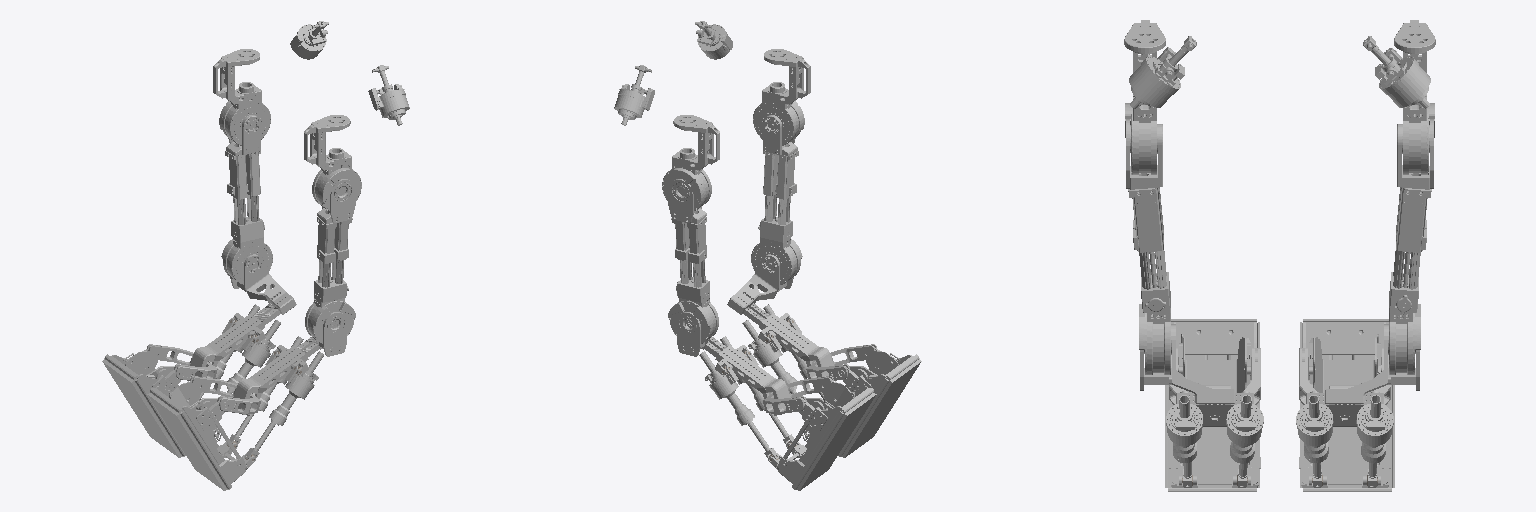
--- Render facts (derived) ---
The picture shows the robot from 3 angles, left to right: view 1: azimuth 30°, elevation 25°; view 2: azimuth 150°, elevation 25°; view 3: azimuth 270°, elevation 25°; orthographic projection.
Robot: humanoid_legged_description — 38 links, 37 joints (12 revolute, 25 fixed); root link dummy_link; default pose: joints at zero except 2 at the middle of their limits (leg_r4_joint = 1.05, leg_l4_joint = 1.05).
Visible links, largest first — view 1: LINK_R_FOOT, LINK_L_THIGH, LINK_R_THIGH, LINK_L_FOOT, LINK_L_SHANK, LINK_L_HIP, LINK_R_HIP, LINK_R_SHANK, LINK_RR_ACTU, LINK_LR_ACTU, LINK_R_ANK, LINK_R_ABD_ACTU (+2 smaller); view 2: LINK_L_FOOT, LINK_R_THIGH, LINK_L_THIGH, LINK_R_FOOT, LINK_R_SHANK, LINK_R_HIP, LINK_L_HIP, LINK_L_SHANK, LINK_LL_ACTU, LINK_RL_ACTU, LINK_L_ANK, LINK_L_ABD_ACTU (+2 smaller); view 3: LINK_L_FOOT, LINK_R_FOOT, LINK_R_THIGH, LINK_L_THIGH, LINK_R_HIP, LINK_L_HIP, LINK_L_SHANK, LINK_R_SHANK, LINK_L_ABD_ACTU, LINK_R_ABD_ACTU, LINK_RL_ACTU, LINK_LL_ACTU (+4 smaller).
Link boxes in pixels (bbox=[...]): LINK_R_FOOT: bbox=[147, 377, 255, 490]; LINK_L_THIGH: bbox=[221, 115, 272, 284]; LINK_R_THIGH: bbox=[305, 179, 355, 343]; LINK_L_FOOT: bbox=[102, 345, 185, 457]; LINK_L_SHANK: bbox=[190, 254, 296, 375]; LINK_L_HIP: bbox=[213, 49, 270, 145]; LINK_R_HIP: bbox=[304, 115, 361, 210]; LINK_R_SHANK: bbox=[233, 312, 347, 415]; LINK_RR_ACTU: bbox=[269, 351, 323, 425]; LINK_LR_ACTU: bbox=[226, 320, 280, 392]; LINK_R_ANK: bbox=[190, 376, 260, 414]; LINK_R_ABD_ACTU: bbox=[368, 84, 409, 119]; LINK_L_FOOT: bbox=[768, 377, 876, 490]; LINK_R_THIGH: bbox=[751, 115, 802, 284]; LINK_L_THIGH: bbox=[668, 179, 718, 343]; LINK_R_FOOT: bbox=[838, 345, 921, 457]; LINK_R_SHANK: bbox=[727, 254, 833, 375]; LINK_R_HIP: bbox=[753, 49, 810, 145]; LINK_L_HIP: bbox=[662, 115, 719, 210]; LINK_L_SHANK: bbox=[676, 312, 790, 415]; LINK_LL_ACTU: bbox=[699, 351, 754, 425]; LINK_RL_ACTU: bbox=[742, 320, 797, 392]; LINK_L_ANK: bbox=[763, 376, 833, 414]; LINK_L_ABD_ACTU: bbox=[614, 84, 654, 119]; LINK_L_FOOT: bbox=[1299, 319, 1394, 491]; LINK_R_FOOT: bbox=[1165, 319, 1260, 491]; LINK_R_THIGH: bbox=[1126, 119, 1170, 374]; LINK_L_THIGH: bbox=[1389, 119, 1433, 374]; LINK_R_HIP: bbox=[1124, 20, 1165, 174]; LINK_L_HIP: bbox=[1394, 20, 1435, 174]; LINK_L_SHANK: bbox=[1306, 324, 1419, 426]; LINK_R_SHANK: bbox=[1140, 324, 1253, 426]; LINK_L_ABD_ACTU: bbox=[1375, 48, 1430, 107]; LINK_R_ABD_ACTU: bbox=[1129, 47, 1184, 107]; LINK_RL_ACTU: bbox=[1226, 391, 1263, 463]; LINK_LL_ACTU: bbox=[1356, 391, 1393, 463].
Size in the robot's own frame: 0.7484 by 0.5998 by 1.21 metres.
30 mesh visuals loaded from 33 distinct referenced files (30 binary STL); not drawn: 3 (reference not matched to a file when rendering).

robot.urdf — humanoid_legged_description:
<?xml version="1.0" encoding="utf-8"?>
<!-- This URDF was automatically created by SolidWorks to URDF Exporter! Originally created by Stephen Brawner ([email redacted])  Commit Version: 1.6.0-4-g7f85cfe Build Version: 1.6.7995.38578 For more information, please see http://wiki.ros.org/sw_urdf_exporter -->
<robot name="humanoid_legged_description">
  <link name="dummy_link">
    </link>
  <link name="base_link">
    <inertial>
      <origin xyz="-0.1722 -0.00942 0.03461" rpy="0 0 0" />
      <mass value="5.55546" />
      <inertia ixx="0.02023" ixy="1e-05" ixz="0.00011" iyy="0.00815" iyz="0.00021" izz="0.02067" />
    </inertial>
    <visual>
      <origin xyz="0 0 0" rpy="0 0 0" />
      <geometry>
        <mesh filename="package://humanoid_legged_description/meshes/LINK_BASE.STL" />
      </geometry>
      <material name="">
        <color rgba="0.75294 0.75294 0.75294 1" />
      </material>
    </visual>
    <collision>
      <origin xyz="0 0 0" rpy="0 0 0" />
      <geometry>
        <mesh filename="package://humanoid_legged_description/meshes/LINK_BASE.STL" />
      </geometry>
    </collision>
  </link>

  <joint name="dummy_to_base_link" type="fixed">
    <parent link="dummy_link"/>
    <child link="base_link"/>
    <origin rpy="0 0 0" xyz="0 0 0"/>
  </joint>

  <!-- <joint name="DUMMY_JOINT_MAN_COM" type="fixed">
    <origin xyz="-0.246 0 0" rpy="0 0 0" />
    <parent link="LINK_BASE" />
    <child link="DUMMY_LINK_MAN_COM" />
  </joint>
  <link name="DUMMY_LINK_MAN_COM">
    <inertial>
      <origin xyz="0 0 0" rpy="0 0 0" />
      <mass value="70.0" />
      <inertia ixx="0.1" ixy="0" ixz="0" iyy="0.1" iyz="0" izz="0.1" />
    </inertial>
  </link> -->

  <!-- <link name="HUMAN_TORSO">
    <inertial>
      <origin xyz="0 0 0" rpy="0 0 0"/>
      <mass value="45.0"/>
      <inertia ixx="0.1" ixy="0" ixz="0" iyy="0.1" iyz="0" izz="0.1"/>
    </inertial>
    <visual>
      <origin xyz="0 0 0" rpy="0 0 0"/>
      <geometry>
        <box size="0.1 0.1 0.1"/>
      </geometry>
      <material name="human_torso_color">
        <color rgba="0.8 0.4 0.4 1"/>
      </material>
    </visual>
  </link>

  <link name="HUMAN_THIGH_R">
    <inertial>
      <origin xyz="0 0 -0.2" rpy="1.5708 0 0"/>
      <mass value="5.0"/>
      <inertia ixx="0.02" ixy="0" ixz="0" iyy="0.02" iyz="0" izz="0.02"/>
    </inertial>
    <visual>
      <origin xyz="0 0 0" rpy="1.5708 0 0"/>
      <geometry>
        <cylinder radius="0.1" length="0.2"/>
      </geometry>
      <material name="human_leg_color">
        <color rgba="0.4 0.4 0.8 1"/>
      </material>
    </visual>
  </link>

  <link name="HUMAN_SHANK_R">
    <inertial>
      <origin xyz="0 0 -0.05" rpy="1.5708 0 0"/>
      <mass value="3.0"/>
      <inertia ixx="0.015" ixy="0" ixz="0" iyy="0.015" iyz="0" izz="0.015"/>
    </inertial>
    <visual>
      <origin xyz="0 0 0" rpy="1.5708 0 0"/>
      <geometry>
        <cylinder radius="0.05" length="0.1"/>
      </geometry>
      <material name="human_leg_color">
        <color rgba="0.4 0.4 0.8 1"/>
      </material>
    </visual>
  </link>

  <link name="HUMAN_THIGH_L">
    <inertial>
      <origin xyz="0 0 -0.2" rpy="1.5708 0 0"/>
      <mass value="5.0"/>
      <inertia ixx="0.02" ixy="0" ixz="0" iyy="0.02" iyz="0" izz="0.02"/>
    </inertial>
    <visual>
      <origin xyz="0 0 0" rpy="1.5708 0 0"/>
      <geometry>
        <cylinder radius="0.09" length="0.2"/>
      </geometry>
      <material name="human_leg_color">
        <color rgba="0.4 0.4 0.8 1"/>
      </material>
    </visual>
  </link>

  <link name="HUMAN_SHANK_L">
    <inertial>
      <origin xyz="0 0 -0.05" rpy="1.5708 0 0"/>
      <mass value="3.0"/>
      <inertia ixx="0.015" ixy="0" ixz="0" iyy="0.015" iyz="0" izz="0.015"/>
    </inertial>
    <visual>
      <origin xyz="0 0 0" rpy="1.5708 0 0"/>
      <geometry>
        <cylinder radius="0.05" length="0.1"/>
      </geometry>
      <material name="human_leg_color">
        <color rgba="0.4 0.4 0.8 1"/>
      </material>
    </visual>
  </link>



  <joint name="HUMAN_TORSO_TO_EXO" type="fixed">
    <origin xyz="-0.235 0 0.45" rpy="0 0 0"/>
    <parent link="base_link"/>
    <child link="HUMAN_TORSO"/>
  </joint>

  <joint name="HUMAN_THIGH_R_TO_EXO" type="fixed">
    <origin xyz="0.15 -0.2 0" rpy="0 0 0"/>
    <parent link="LINK_R_THIGH"/>
    <child link="HUMAN_THIGH_R"/>
  </joint>

  <joint name="HUMAN_SHANK_R_TO_EXO" type="fixed">
    <origin xyz="0.15 -0.1 0" rpy="0 0 0"/>
    <parent link="LINK_R_SHANK"/>
    <child link="HUMAN_SHANK_R"/>
  </joint>

  <joint name="HUMAN_THIGH_L_TO_EXO" type="fixed">
    <origin xyz="-0.15 -0.2 0" rpy="0 0 0"/>
    <parent link="LINK_L_THIGH"/>
    <child link="HUMAN_THIGH_L"/>
  </joint>

  <joint name="HUMAN_SHANK_L_TO_EXO" type="fixed">
    <origin xyz="-0.15 -0.1 0" rpy="0 0 0"/>
    <parent link="LINK_L_SHANK"/>
    <child link="HUMAN_SHANK_L"/>
  </joint> -->


  
  
  <link name="LINK_R_BASE">
    <inertial>
      <origin xyz="-0.15578 -0.11808 -0.01482" rpy="0 0 0" />
      <mass value="2.64278" />
      <inertia ixx="0.003" ixy="-0.00063" ixz="-0.00046" iyy="0.00376" iyz="0.00029" izz="0.00493" />
    </inertial>
    <visual>
      <origin xyz="0 0 0" rpy="0 0 0" />
      <geometry>
        <mesh filename="package://humanoid_legged_description/meshes/LINK_R_BASE.STL" />
      </geometry>
      <material name="">
        <color rgba="0.75294 0.75294 0.75294 1" />
      </material>
    </visual>
    <collision>
      <origin xyz="0 0 0" rpy="0 0 0" />
      <geometry>
        <mesh filename="package://humanoid_legged_description/meshes/LINK_R_BASE.STL" />
      </geometry>
    </collision>
  </link>
  <link name="LINK_R_HIP">
    <inertial>
      <origin xyz="0.1573 0.00247 0.00753" rpy="0 0 0" />
      <mass value="3.93858" />
      <inertia ixx="0.00404" ixy="4e-05" ixz="0.00037" iyy="0.00711" iyz="-1e-05" izz="0.00404" />
    </inertial>
    <visual>
      <origin xyz="0 0 0" rpy="0 0 0" />
      <geometry>
        <mesh filename="package://humanoid_legged_description/meshes/LINK_R_HIP.STL" />
      </geometry>
      <material name="">
        <color rgba="0.75294 0.75294 0.75294 1" />
      </material>
    </visual>
    <collision>
      <origin xyz="0 0 0" rpy="0 0 0" />
      <geometry>
        <mesh filename="package://humanoid_legged_description/meshes/LINK_R_HIP.STL" />
      </geometry>
    </collision>
  </link>
  <link name="LINK_R_THIGH">
    <inertial>
      <origin xyz="0.02583 -0.24821 -0.00792" rpy="0 0 0" />
      <mass value="3.57819" />
      <inertia ixx="0.00722" ixy="0.00023" ixz="1e-05" iyy="0.00309" iyz="0" izz="0.00598" />
    </inertial>
    <visual>
      <origin xyz="0 0 0" rpy="0 0 0" />
      <geometry>
        <mesh filename="package://humanoid_legged_description/meshes/LINK_R_THIGH.STL" />
      </geometry>
      <material name="">
        <color rgba="0.75294 0.75294 0.75294 1" />
      </material>
    </visual>
    <collision>
      <origin xyz="0 0 0" rpy="0 0 0" />
      <geometry>
        <mesh filename="package://humanoid_legged_description/meshes/LINK_R_THIGH.STL" />
      </geometry>
    </collision>
  </link>
  <link name="LINK_R_SHANK">
    <inertial>
      <origin xyz="0.12436 -0.11397 0.09477" rpy="0 0 0" />
      <mass value="2.52223" />
      <inertia ixx="0.00751" ixy="-7e-05" ixz="-0.00053" iyy="0.00225" iyz="-0.00032" izz="0.00788" />
    </inertial>
    <visual>
      <origin xyz="0 0 0" rpy="0 0 0" />
      <geometry>
        <mesh filename="package://humanoid_legged_description/meshes/LINK_R_SHANK.STL" />
      </geometry>
      <material name="">
        <color rgba="0.75294 0.75294 0.75294 1" />
      </material>
    </visual>
    <collision>
      <origin xyz="0 0 0" rpy="0 0 0" />
      <geometry>
        <mesh filename="package://humanoid_legged_description/meshes/LINK_R_SHANK.STL" />
      </geometry>
    </collision>
  </link>
  <link name="LINK_R_ANK">
    <inertial>
      <origin xyz="0 0.00012 -0.06408" rpy="0 0 0" />
      <mass value="0.55947" />
      <inertia ixx="0.00102" ixy="0" ixz="0" iyy="0.00286" iyz="0" izz="0.00202" />
    </inertial>
    <visual>
      <origin xyz="0 0 0" rpy="0 0 0" />
      <geometry>
        <mesh filename="package://humanoid_legged_description/meshes/LINK_R_ANK.STL" />
      </geometry>
      <material name="">
        <color rgba="0.75294 0.75294 0.75294 1" />
      </material>
    </visual>
    <collision>
      <origin xyz="0 0 0" rpy="0 0 0" />
      <geometry>
        <mesh filename="package://humanoid_legged_description/meshes/LINK_R_ANK.STL" />
      </geometry>
    </collision>
  </link>
  <link name="LINK_R_FOOT">
    <inertial>
      <origin xyz="0.08531 -0.1009 0.08681" rpy="0 0 0" />
      <mass value="4.0801" />
      <inertia ixx="0.02694" ixy="-9e-05" ixz="0.00014" iyy="0.03643" iyz="0.00025" izz="0.01075" />
    </inertial>
    <visual>
      <origin xyz="0 0 0" rpy="0 0 0" />
      <geometry>
        <mesh filename="package://humanoid_legged_description/meshes/LINK_R_FOOT.STL" />
      </geometry>
      <material name="">
        <color rgba="0.75294 0.75294 0.75294 1" />
      </material>
    </visual>
    <collision>
      <origin xyz="0 0 0" rpy="0 0 0" />
      <geometry>
        <mesh filename="package://humanoid_legged_description/meshes/LINK_R_FOOT.STL" />
      </geometry>
    </collision>
  </link>
  <link name="LINK_RR_DPIN">
    <inertial>
      <origin xyz="0 0 0" rpy="0 0 0" />
      <mass value="0.0457" />
      <inertia ixx="0" ixy="0" ixz="0" iyy="0" iyz="0" izz="0" />
    </inertial>
    <visual>
      <origin xyz="0 0 0" rpy="0 0 0" />
      <geometry>
        <mesh filename="package://humanoid_legged_description/meshes/LINK_RR_DPIN.STL" />
      </geometry>
      <material name="">
        <color rgba="0.65098 0.61961 0.58824 1" />
      </material>
    </visual>
    <collision>
      <origin xyz="0 0 0" rpy="0 0 0" />
      <geometry>
        <mesh filename="package://humanoid_legged_description/meshes/LINK_RR_DPIN.STL" />
      </geometry>
    </collision>
  </link>
  <link name="LINK_RR_SCREW">
    <inertial>
      <origin xyz="-0.00055 0 0.13102" rpy="0 0 0" />
      <mass value="0.44127" />
      <inertia ixx="0.00189" ixy="0" ixz="1e-05" iyy="0.00189" iyz="0" izz="2e-05" />
    </inertial>
    <visual>
      <origin xyz="0 0 0" rpy="0 0 0" />
      <geometry>
        <mesh filename="package://humanoid_legged_description/meshes/LINK_RR_SCREW.STL" />
      </geometry>
      <material name="">
        <color rgba="0.75294 0.75294 0.75294 1" />
      </material>
    </visual>
    <collision>
      <origin xyz="0 0 0" rpy="0 0 0" />
      <geometry>
        <mesh filename="package://humanoid_legged_description/meshes/LINK_RR_SCREW.STL" />
      </geometry>
    </collision>
  </link>
  <link name="LINK_RL_DPIN">
    <inertial>
      <origin xyz="0 0 0" rpy="0 0 0" />
      <mass value="0.0457" />
      <inertia ixx="0" ixy="0" ixz="0" iyy="0" iyz="0" izz="0" />
    </inertial>
    <visual>
      <origin xyz="0 0 0" rpy="0 0 0" />
      <geometry>
        <mesh filename="package://humanoid_legged_description/meshes/LINK_RL_DPIN.STL" />
      </geometry>
      <material name="">
        <color rgba="0.65098 0.61961 0.58824 1" />
      </material>
    </visual>
    <collision>
      <origin xyz="0 0 0" rpy="0 0 0" />
      <geometry>
        <mesh filename="package://humanoid_legged_description/meshes/LINK_RL_DPIN.STL" />
      </geometry>
    </collision>
  </link>
  <link name="LINK_RL_SCREW">
    <inertial>
      <origin xyz="0.00491 0 0.13092" rpy="0 0 0" />
      <mass value="0.44127" />
      <inertia ixx="0.00189" ixy="0" ixz="-7e-05" iyy="0.00189" iyz="0" izz="2e-05" />
    </inertial>
    <visual>
      <origin xyz="0 0 0" rpy="0 0 0" />
      <geometry>
        <mesh filename="package://humanoid_legged_description/meshes/LINK_RL_SCREW.STL" />
      </geometry>
      <material name="">
        <color rgba="0.75294 0.75294 0.75294 1" />
      </material>
    </visual>
    <collision>
      <origin xyz="0 0 0" rpy="0 0 0" />
      <geometry>
        <mesh filename="package://humanoid_legged_description/meshes/LINK_RL_SCREW.STL" />
      </geometry>
    </collision>
  </link>
  <link name="LINK_RR_UPIN">
    <inertial>
      <origin xyz="0 0 0" rpy="0 0 0" />
      <mass value="0.04441" />
      <inertia ixx="0" ixy="0" ixz="0" iyy="0" iyz="0" izz="0" />
    </inertial>
    <visual>
      <origin xyz="0 0 0" rpy="0 0 0" />
      <geometry>
        <mesh filename="package://humanoid_legged_description/meshes/LINK_RR_UPIN.STL" />
      </geometry>
      <material name="">
        <color rgba="0.65098 0.61961 0.58824 1" />
      </material>
    </visual>
    <collision>
      <origin xyz="0 0 0" rpy="0 0 0" />
      <geometry>
        <mesh filename="package://humanoid_legged_description/meshes/LINK_RR_UPIN.STL" />
      </geometry>
    </collision>
  </link>
  <link name="LINK_RR_ACTU">
    <inertial>
      <origin xyz="0.00021 -0.03662 -0.06019" rpy="0 0 0" />
      <mass value="1.3259" />
      <inertia ixx="0.00123" ixy="0" ixz="0" iyy="0.00122" iyz="0" izz="0.00066" />
    </inertial>
    <visual>
      <origin xyz="0 0 0" rpy="0 0 0" />
      <geometry>
        <mesh filename="package://humanoid_legged_description/meshes/LINK_RR_ACTU.STL" />
      </geometry>
      <material name="">
        <color rgba="0.75294 0.75294 0.75294 1" />
      </material>
    </visual>
    <collision>
      <origin xyz="0 0 0" rpy="0 0 0" />
      <geometry>
        <mesh filename="package://humanoid_legged_description/meshes/LINK_RR_ACTU.STL" />
      </geometry>
    </collision>
  </link>
  <link name="LINK_RL_UPIN">
    <inertial>
      <origin xyz="0 0 0" rpy="0 0 0" />
      <mass value="0.04441" />
      <inertia ixx="0" ixy="0" ixz="0" iyy="0" iyz="0" izz="0" />
    </inertial>
    <visual>
      <origin xyz="0 0 0" rpy="0 0 0" />
      <geometry>
        <mesh filename="package://humanoid_legged_description/meshes/LINK_RL_UPIN.STL" />
      </geometry>
      <material name="">
        <color rgba="0.65098 0.61961 0.58824 1" />
      </material>
    </visual>
    <collision>
      <origin xyz="0 0 0" rpy="0 0 0" />
      <geometry>
        <mesh filename="package://humanoid_legged_description/meshes/LINK_RL_UPIN.STL" />
      </geometry>
    </collision>
  </link>
  <link name="LINK_RL_ACTU">
    <inertial>
      <origin xyz="-0.00229 -0.03662 -0.06015" rpy="0 0 0" />
      <mass value="1.3259" />
      <inertia ixx="0.00123" ixy="0" ixz="-2e-05" iyy="0.00122" iyz="0" izz="0.00066" />
    </inertial>
    <visual>
      <origin xyz="0 0 0" rpy="0 0 0" />
      <geometry>
        <mesh filename="package://humanoid_legged_description/meshes/LINK_RL_ACTU.STL" />
      </geometry>
      <material name="">
        <color rgba="0.75294 0.75294 0.75294 1" />
      </material>
    </visual>
    <collision>
      <origin xyz="0 0 0" rpy="0 0 0" />
      <geometry>
        <mesh filename="package://humanoid_legged_description/meshes/LINK_RL_ACTU.STL" />
      </geometry>
    </collision>
  </link>
  <link name="LINK_R_ABD_ACTU">
    <inertial>
      <origin xyz="0.0384 -0.02898 -0.03467" rpy="0 0 0" />
      <mass value="1.82111" />
      <inertia ixx="0.00095" ixy="0" ixz="0" iyy="0.00119" iyz="0.00027" izz="0.00128" />
    </inertial>
    <visual>
      <origin xyz="0 0 0" rpy="0 0 0" />
      <geometry>
        <mesh filename="package://humanoid_legged_description/meshes/LINK_R_ABD_ACTU.STL" />
      </geometry>
      <material name="">
        <color rgba="0.75294 0.75294 0.75294 1" />
      </material>
    </visual>
    <collision>
      <origin xyz="0 0 0" rpy="0 0 0" />
      <geometry>
        <mesh filename="package://humanoid_legged_description/meshes/LINK_R_ABD_ACTU.STL" />
      </geometry>
    </collision>
  </link>
  <link name="LINK_L_BASE">
    <inertial>
      <origin xyz="-0.15582 0.11811 -0.01482" rpy="0 0 0" />
      <mass value="2.64202" />
      <inertia ixx="0.003" ixy="0.00063" ixz="-0.00046" iyy="0.00376" iyz="-0.00029" izz="0.00493" />
    </inertial>
    <visual>
      <origin xyz="0 0 0" rpy="0 0 0" />
      <geometry>
        <mesh filename="package://humanoid_legged_description/meshes/LINK_L_BASE.STL" />
      </geometry>
      <material name="">
        <color rgba="0.75294 0.75294 0.75294 1" />
      </material>
    </visual>
    <collision>
      <origin xyz="0 0 0" rpy="0 0 0" />
      <geometry>
        <mesh filename="package://humanoid_legged_description/meshes/LINK_L_BASE.STL" />
      </geometry>
    </collision>
  </link>
  <link name="LINK_L_HIP">
    <inertial>
      <origin xyz="0.1573 -0.00269 0.00753" rpy="0 0 0" />
      <mass value="3.93858" />
      <inertia ixx="0.00404" ixy="-4e-05" ixz="0.00037" iyy="0.00711" iyz="1e-05" izz="0.00404" />
    </inertial>
    <visual>
      <origin xyz="0 0 0" rpy="0 0 0" />
      <geometry>
        <mesh filename="package://humanoid_legged_description/meshes/LINK_L_HIP.STL" />
      </geometry>
      <material name="">
        <color rgba="0.75294 0.75294 0.75294 1" />
      </material>
    </visual>
    <collision>
      <origin xyz="0 0 0" rpy="0 0 0" />
      <geometry>
        <mesh filename="package://humanoid_legged_description/meshes/LINK_L_HIP.STL" />
      </geometry>
    </collision>
  </link>
  <link name="LINK_L_THIGH">
    <inertial>
      <origin xyz="-0.0215 -0.2549 -0.00789" rpy="0 0 0" />
      <mass value="3.04454" />
      <inertia ixx="0.00659" ixy="-0.0002" ixz="-1e-05" iyy="0.00287" iyz="0" izz="0.00537" />
    </inertial>
    <visual>
      <origin xyz="0 0 0" rpy="0 0 0" />
      <geometry>
        <mesh filename="package://humanoid_legged_description/meshes/LINK_L_THIGH.STL" />
      </geometry>
      <material name="">
        <color rgba="0.75294 0.75294 0.75294 1" />
      </material>
    </visual>
    <collision>
      <origin xyz="0 0 0" rpy="0 0 0" />
      <geometry>
        <mesh filename="package://humanoid_legged_description/meshes/LINK_L_THIGH.STL" />
      </geometry>
    </collision>
  </link>
  <link name="LINK_L_SHANK">
    <inertial>
      <origin xyz="-0.1241 -0.11379 0.09466" rpy="0 0 0" />
      <mass value="2.49032" />
      <inertia ixx="0.00751" ixy="7e-05" ixz="0.00053" iyy="0.00224" iyz="-0.00032" izz="0.00787" />
    </inertial>
    <visual>
      <origin xyz="0 0 0" rpy="0 0 0" />
      <geometry>
        <mesh filename="package://humanoid_legged_description/meshes/LINK_L_SHANK.STL" />
      </geometry>
      <material name="">
        <color rgba="0.75294 0.75294 0.75294 1" />
      </material>
    </visual>
    <collision>
      <origin xyz="0 0 0" rpy="0 0 0" />
      <geometry>
        <mesh filename="package://humanoid_legged_description/meshes/LINK_L_SHANK.STL" />
      </geometry>
    </collision>
  </link>
  <link name="LINK_L_ANK">
    <inertial>
      <origin xyz="0 0.00012 -0.06408" rpy="0 0 0" />
      <mass value="0.55947" />
      <inertia ixx="0.00102" ixy="0" ixz="0" iyy="0.00286" iyz="0" izz="0.00202" />
    </inertial>
    <visual>
      <origin xyz="0 0 0" rpy="0 0 0" />
      <geometry>
        <mesh filename="package://humanoid_legged_description/meshes/LINK_L_ANK.STL" />
      </geometry>
      <material name="">
        <color rgba="0.75294 0.75294 0.75294 1" />
      </material>
    </visual>
    <collision>
      <origin xyz="0 0 0" rpy="0 0 0" />
      <geometry>
        <mesh filename="package://humanoid_legged_description/meshes/LINK_L_ANK.STL" />
      </geometry>
    </collision>
  </link>
  <link name="LINK_L_FOOT">
    <inertial>
      <origin xyz="-0.08541 -0.09867 0.08624" rpy="0 0 0" />
      <mass value="3.99154" />
      <inertia ixx="0.0258" ixy="9e-05" ixz="-0.00014" iyy="0.03496" iyz="0.00025" izz="0.01043" />
    </inertial>
    <visual>
      <origin xyz="0 0 0" rpy="0 0 0" />
      <geometry>
        <mesh filename="package://humanoid_legged_description/meshes/LINK_L_FOOT.STL" />
      </geometry>
      <material name="">
        <color rgba="0.75294 0.75294 0.75294 1" />
      </material>
    </visual>
    <collision>
      <origin xyz="0 0 0" rpy="0 0 0" />
      <geometry>
        <mesh filename="package://humanoid_legged_description/meshes/LINK_L_FOOT.STL" />
      </geometry>
    </collision>
  </link>
  <link name="LINK_LR_DPIN">
    <inertial>
      <origin xyz="0 0 0" rpy="0 0 0" />
      <mass value="0.0457" />
      <inertia ixx="0" ixy="0" ixz="0" iyy="0" iyz="0" izz="0" />
    </inertial>
    <visual>
      <origin xyz="0 0 0" rpy="0 0 0" />
      <geometry>
        <mesh filename="package://humanoid_legged_description/meshes/LINK_LR_DPIN.STL" />
      </geometry>
      <material name="">
        <color rgba="0.65098 0.61961 0.58824 1" />
      </material>
    </visual>
    <collision>
      <origin xyz="0 0 0" rpy="0 0 0" />
      <geometry>
        <mesh filename="package://humanoid_legged_description/meshes/LINK_LR_DPIN.STL" />
      </geometry>
    </collision>
  </link>
  <link name="LINK_LR_SCREW">
    <inertial>
      <origin xyz="-0.00273 0 0.13099" rpy="0 0 0" />
      <mass value="0.44127" />
      <inertia ixx="0.00189" ixy="0" ixz="4e-05" iyy="0.00189" iyz="0" izz="2e-05" />
    </inertial>
    <visual>
      <origin xyz="0 0 0" rpy="0 0 0" />
      <geometry>
        <mesh filename="package://humanoid_legged_description/meshes/LINK_LR_SCREW.STL" />
      </geometry>
      <material name="">
        <color rgba="0.75294 0.75294 0.75294 1" />
      </material>
    </visual>
    <collision>
      <origin xyz="0 0 0" rpy="0 0 0" />
      <geometry>
        <mesh filename="package://humanoid_legged_description/meshes/LINK_LR_SCREW.STL" />
      </geometry>
    </collision>
  </link>
  <link name="LINK_LL_DPIN">
    <inertial>
      <origin xyz="0 0 0" rpy="0 0 0" />
      <mass value="0.0457" />
      <inertia ixx="0" ixy="0" ixz="0" iyy="0" iyz="0" izz="0" />
    </inertial>
    <visual>
      <origin xyz="0 0 0" rpy="0 0 0" />
      <geometry>
        <mesh filename="package://humanoid_legged_description/meshes/LINK_LL_DPIN.STL" />
      </geometry>
      <material name="">
        <color rgba="0.65098 0.61961 0.58824 1" />
      </material>
    </visual>
    <collision>
      <origin xyz="0 0 0" rpy="0 0 0" />
      <geometry>
        <mesh filename="package://humanoid_legged_description/meshes/LINK_LL_DPIN.STL" />
      </geometry>
    </collision>
  </link>
  <link name="LINK_LL_SCREW">
    <inertial>
      <origin xyz="0.00273 0 0.13099" rpy="0 0 0" />
      <mass value="0.44127" />
      <inertia ixx="0.00189" ixy="0" ixz="-4e-05" iyy="0.00189" iyz="0" izz="2e-05" />
    </inertial>
    <visual>
      <origin xyz="0 0 0" rpy="0 0 0" />
      <geometry>
        <mesh filename="package://humanoid_legged_description/meshes/LINK_LL_SCREW.STL" />
      </geometry>
      <material name="">
        <color rgba="0.75294 0.75294 0.75294 1" />
      </material>
    </visual>
    <collision>
      <origin xyz="0 0 0" rpy="0 0 0" />
      <geometry>
        <mesh filename="package://humanoid_legged_description/meshes/LINK_LL_SCREW.STL" />
      </geometry>
    </collision>
  </link>
  <link name="LINK_LR_UPIN">
    <inertial>
      <origin xyz="0 0 0" rpy="0 0 0" />
      <mass value="0.04441" />
      <inertia ixx="0" ixy="0" ixz="0" iyy="0" iyz="0" izz="0" />
    </inertial>
    <visual>
      <origin xyz="0 0 0" rpy="0 0 0" />
      <geometry>
        <mesh filename="package://humanoid_legged_description/meshes/LINK_LR_UPIN.STL" />
      </geometry>
      <material name="">
        <color rgba="0.65098 0.61961 0.58824 1" />
      </material>
    </visual>
    <collision>
      <origin xyz="0 0 0" rpy="0 0 0" />
      <geometry>
        <mesh filename="package://humanoid_legged_description/meshes/LINK_LR_UPIN.STL" />
      </geometry>
    </collision>
  </link>
  <link name="LINK_LR_ACTU">
    <inertial>
      <origin xyz="0.00122 0.03662 0.06018" rpy="0 0 0" />
      <mass value="1.3259" />
      <inertia ixx="0.00123" ixy="0" ixz="-1e-05" iyy="0.00122" iyz="0" izz="0.00066" />
    </inertial>
    <visual>
      <origin xyz="0 0 0" rpy="0 0 0" />
      <geometry>
        <mesh filename="package://humanoid_legged_description/meshes/LINK_LR_ACTU.STL" />
      </geometry>
      <material name="">
        <color rgba="0.75294 0.75294 0.75294 1" />
      </material>
    </visual>
    <collision>
      <origin xyz="0 0 0" rpy="0 0 0" />
      <geometry>
        <mesh filename="package://humanoid_legged_description/meshes/LINK_LR_ACTU.STL" />
      </geometry>
    </collision>
  </link>
  <link name="LINK_LL_UPIN">
    <inertial>
      <origin xyz="0 0 0" rpy="0 0 0" />
      <mass value="0.04441" />
      <inertia ixx="0" ixy="0" ixz="0" iyy="0" iyz="0" izz="0" />
    </inertial>
    <visual>
      <origin xyz="0 0 0" rpy="0 0 0" />
      <geometry>
        <mesh filename="package://humanoid_legged_description/meshes/LINK_LL_UPIN.STL" />
      </geometry>
      <material name="">
        <color rgba="0.65098 0.61961 0.58824 1" />
      </material>
    </visual>
    <collision>
      <origin xyz="0 0 0" rpy="0 0 0" />
      <geometry>
        <mesh filename="package://humanoid_legged_description/meshes/LINK_LL_UPIN.STL" />
      </geometry>
    </collision>
  </link>
  <link name="LINK_LL_ACTU">
    <inertial>
      <origin xyz="-0.00129 0.03662 0.06018" rpy="0 0 0" />
      <mass value="1.3259" />
      <inertia ixx="0.00123" ixy="0" ixz="1e-05" iyy="0.00122" iyz="0" izz="0.00066" />
    </inertial>
    <visual>
      <origin xyz="0 0 0" rpy="0 0 0" />
      <geometry>
        <mesh filename="package://humanoid_legged_description/meshes/LINK_LL_ACTU.STL" />
      </geometry>
      <material name="">
        <color rgba="0.75294 0.75294 0.75294 1" />
      </material>
    </visual>
    <collision>
      <origin xyz="0 0 0" rpy="0 0 0" />
      <geometry>
        <mesh filename="package://humanoid_legged_description/meshes/LINK_LL_ACTU.STL" />
      </geometry>
    </collision>
  </link>
  <link name="LINK_L_ABD_ACTU">
    <inertial>
      <origin xyz="0.03838 0.02875 -0.03454" rpy="0 0 0" />
      <mass value="1.81214" />
      <inertia ixx="0.00094" ixy="0" ixz="0" iyy="0.00118" iyz="-0.00027" izz="0.00128" />
    </inertial>
    <visual>
      <origin xyz="0 0 0" rpy="0 0 0" />
      <geometry>
        <mesh filename="package://humanoid_legged_description/meshes/LINK_L_ABD_ACTU.STL" />
      </geometry>
      <material name="">
        <color rgba="0.75294 0.75294 0.75294 1" />
      </material>
    </visual>
    <collision>
      <origin xyz="0 0 0" rpy="0 0 0" />
      <geometry>
        <mesh filename="package://humanoid_legged_description/meshes/LINK_L_ABD_ACTU.STL" />
      </geometry>
    </collision>
  </link>
  <link name="LINK_R_ABD_SCREW">
    <inertial>
      <origin xyz="-0.02112 -0.0446 -0.0533" rpy="0 0 0" />
      <mass value="0.2942" />
      <inertia ixx="0.00048" ixy="0" ixz="0" iyy="0.00029" iyz="-0.00023" izz="0.00021" />
    </inertial>
    <visual>
      <origin xyz="0 0 0" rpy="0 0 0" />
      <geometry>
        <mesh filename="package://humanoid_legged_description/meshes/LINK_R_ABD_SCREW.STL" />
      </geometry>
      <material name="">
        <color rgba="0.75294 0.75294 0.75294 1" />
      </material>
    </visual>
    <collision>
      <origin xyz="0 0 0" rpy="0 0 0" />
      <geometry>
        <mesh filename="package://humanoid_legged_description/meshes/LINK_R_ABD_SCREW.STL" />
      </geometry>
    </collision>
  </link>
  <link name="LINK_L_ABD_SCREW">
    <inertial>
      <origin xyz="-0.02112 0.0446 -0.0533" rpy="0 0 0" />
      <mass value="0.2942" />
      <inertia ixx="0.00048" ixy="0" ixz="0" iyy="0.00029" iyz="0.00023" izz="0.00021" />
    </inertial>
    <visual>
      <origin xyz="0 0 0" rpy="0 0 0" />
      <geometry>
        <mesh filename="package://humanoid_legged_description/meshes/LINK_L_ABD_SCREW.STL" />
      </geometry>
      <material name="">
        <color rgba="0.75294 0.75294 0.75294 1" />
      </material>
    </visual>
    <collision>
      <origin xyz="0 0 0" rpy="0 0 0" />
      <geometry>
        <mesh filename="package://humanoid_legged_description/meshes/LINK_L_ABD_SCREW.STL" />
      </geometry>
    </collision>
  </link>
  <joint name="leg_r1_joint" type="revolute">
    <origin xyz="0 -0.105 0" rpy="0 0 0" />
    <parent link="base_link" />
    <child link="LINK_R_BASE" />
    <axis xyz="-1 0 0" />
    <limit effort="0.0" lower="-0.17453" upper="0.2618" velocity="0.0"/>
  </joint>
  <joint name="leg_r2_joint" type="revolute">
    <origin xyz="-0.246 -0.155 0.0018" rpy="3.14159 1.5708 0" />
    <parent link="LINK_R_BASE" />
    <child link="LINK_R_HIP" />
    <axis xyz="1 0 0" />
    <limit effort="0.0" lower="-0.2618" upper="0.2618" velocity="0.0"/>
  </joint>
  <joint name="leg_r3_joint" type="revolute">
    <origin xyz="0.1908 0.036 0" rpy="-3.14159 0 -1.5708" />
    <parent link="LINK_R_HIP" />
    <child link="LINK_R_THIGH" />
    <axis xyz="-1 0 0" />
    <limit effort="0.0" lower="-0.52360" upper="1.884" velocity="0.0"/>
  </joint>
  <joint name="leg_r4_joint" type="revolute">
    <origin xyz="0.02624 -0.43062 -0.009" rpy="0 0 0" />
    <parent link="LINK_R_THIGH" />
    <child link="LINK_R_SHANK" />
    <axis xyz="1 0 0" />
    <limit effort="0.0" lower="0.004" upper="2.09440" velocity="0.0"/>
  </joint>
  <joint name="leg_r6_joint" type="revolute">
    <origin xyz="0.1445 -0.29452 0.12171" rpy="-0.69813 0 0" />
    <parent link="LINK_R_SHANK" />
    <child link="LINK_R_ANK" />
    <axis xyz="0 0 1" />
    <limit effort="0.0" lower="-0.1744" upper="0.2618" velocity="0.0"/>
  </joint>
  <joint name="leg_r5_joint" type="revolute">
    <origin xyz="-0.0885 0 -0.148" rpy="0.69813 0 0" />
    <parent link="LINK_R_ANK" />
    <child link="LINK_R_FOOT" />
    <axis xyz="1 0 0" />
    <limit effort="0.0" lower="-0.35" upper="0.52" velocity="0.0"/>
  </joint>

<link name="r_foot_toe"/>
<joint name="r_foot_toe_joint" type="fixed">
  <origin xyz="0.08151 -0.140 0.23716" rpy="0 0 0"/>
  <parent link="LINK_R_FOOT"/>
  <child link="r_foot_toe"/>
</joint>

<link name="r_foot_heel"/>
<joint name="r_foot_heel_joint" type="fixed">
  <origin xyz="0.08151 -0.140 -0.08284" rpy="0 0 0"/>
  <parent link="LINK_R_FOOT"/>
  <child link="r_foot_heel"/>
</joint>

  <joint name="JOINT_RR_DPIN1" type="fixed">
    <origin xyz="0.036 -0.014 0.2299" rpy="-1.92378 0 0" />
    <parent link="LINK_R_FOOT" />
    <child link="LINK_RR_DPIN" />
    <axis xyz="-1 0 0" />
    <limit effort="0.0" lower="-3.14159265359" upper="3.14159265359" velocity="0.0"/>
  </joint>
  <joint name="JOINT_RR_DPIN2" type="fixed">
    <origin xyz="0 0 0" rpy="0 0 0" />
    <parent link="LINK_RR_DPIN" />
    <child link="LINK_RR_SCREW" />
    <axis xyz="0 1 0" />
    <limit effort="0.0" lower="-3.14159265359" upper="3.14159265359" velocity="0.0"/>
  </joint>
  <joint name="JOINT_RL_DPIN1" type="fixed">
    <origin xyz="0.141 -0.014 0.2301" rpy="-1.9286 0 0" />
    <parent link="LINK_R_FOOT" />
    <child link="LINK_RL_DPIN" />
    <axis xyz="1 0 0" />
    <limit effort="0.0" lower="-3.14159265359" upper="3.14159265359" velocity="0.0"/>
  </joint>
  <joint name="JOINT_RL_DPIN2" type="fixed">
    <origin xyz="0 0 0" rpy="0 0 0" />
    <parent link="LINK_RL_DPIN" />
    <child link="LINK_RL_SCREW" />
    <axis xyz="0 1 0" />
    <limit effort="0.0" lower="-3.14159265359" upper="3.14159265359" velocity="0.0"/>
  </joint>
  <joint name="JOINT_RR_UPIN1" type="fixed">
    <origin xyz="0.086 -0.14659 0.10362" rpy="-1.92339 0 0" />
    <parent link="LINK_R_SHANK" />
    <child link="LINK_RR_UPIN" />
    <axis xyz="-1 0 0" />
    <limit effort="0.0" lower="-3.14159265359" upper="3.14159265359" velocity="0.0"/>
  </joint>
  <joint name="JOINT_RR_UPIN2" type="fixed">
    <origin xyz="0 0 0" rpy="0 0 0" />
    <parent link="LINK_RR_UPIN" />
    <child link="LINK_RR_ACTU" />
    <axis xyz="0 1 0" />
    <limit effort="0.0" lower="-3.14159265359" upper="3.14159265359" velocity="0.0"/>
  </joint>
  <joint name="JOINT_RL_UPIN1" type="fixed">
    <origin xyz="0.203 -0.14659 0.10362" rpy="-1.92779 0 0" />
    <parent link="LINK_R_SHANK" />
    <child link="LINK_RL_UPIN" />
    <axis xyz="1 0 0" />
    <limit effort="0.0" lower="-3.14159265359" upper="3.14159265359" velocity="0.0"/>
  </joint>
  <joint name="JOINT_RL_UPIN2" type="fixed">
    <origin xyz="0 0 0" rpy="0 0 0" />
    <parent link="LINK_RL_UPIN" />
    <child link="LINK_RL_ACTU" />
    <axis xyz="0 0.99999 0.00439" />
    <limit effort="0.0" lower="-3.14159265359" upper="3.14159265359" velocity="0.0"/>
  </joint>
  <joint name="JOINT_R_ABD_ACTUSUB" type="fixed">
    <origin xyz="-0.089 -0.10864 0.05722" rpy="0 0 0" />
    <parent link="LINK_R_BASE" />
    <child link="LINK_R_ABD_ACTU" />
    <axis xyz="1 0 0" />
    <limit effort="0.0" lower="-3.14159265359" upper="3.14159265359" velocity="0.0"/>
  </joint>
  <joint name="leg_l1_joint" type="revolute">
    <origin xyz="0 0.105 0" rpy="0 0 0" />
    <parent link="base_link" />
    <child link="LINK_L_BASE" />
    <axis xyz="1 0 0" />
    <limit effort="0.0" lower="-0.17453" upper="0.2618" velocity="0.0"/>
  </joint>
  <joint name="leg_l2_joint" type="revolute">
    <origin xyz="-0.246 0.155 0.0018" rpy="3.14159 1.5708 0" />
    <parent link="LINK_L_BASE" />
    <child link="LINK_L_HIP" />
    <axis xyz="-1 0 0" />
    <limit effort="0.0" lower="-0.2618" upper="0.2618" velocity="0.0"/>
  </joint>
  <joint name="leg_l3_joint" type="revolute">
    <origin xyz="0.1908 -0.036 0" rpy="-3.14159 0 -1.5708" />
    <parent link="LINK_L_HIP" />
    <child link="LINK_L_THIGH" />
    <axis xyz="-1 0 0" />
    <limit effort="0.0" lower="-0.52360" upper="1.884" velocity="0.0"/>
  </joint>
  <joint name="leg_l4_joint" type="revolute">
    <origin xyz="-0.02624 -0.43062 -0.009" rpy="0 0 0" />
    <parent link="LINK_L_THIGH" />
    <child link="LINK_L_SHANK" />
    <axis xyz="1 0 0" />
    <limit effort="0.0" lower="0.004" upper="2.09440" velocity="0.0"/>
  </joint>
  <joint name="leg_l6_joint" type="revolute">
    <origin xyz="-0.1445 -0.29452 0.12171" rpy="-0.69813 0 0" />
    <parent link="LINK_L_SHANK" />
    <child link="LINK_L_ANK" />
    <axis xyz="0 0 -1" />
    <limit effort="0.0" lower="-0.1744" upper="0.2618" velocity="0.0"/>
  </joint>
  <joint name="leg_l5_joint" type="revolute">
    <origin xyz="0.0885 0 -0.148" rpy="0.69813 0 0" />
    <parent link="LINK_L_ANK" />
    <child link="LINK_L_FOOT" />
    <axis xyz="1 0 0" />
    <limit effort="0.0" lower="-0.35" upper="0.52" velocity="0.0"/>
  </joint>

  <link name="l_foot_toe"/>
<joint name="l_foot_toe_joint" type="fixed">
  <origin xyz="-0.08151 -0.140 0.23716" rpy="0 0 0"/>
  <parent link="LINK_L_FOOT"/>
  <child link="l_foot_toe"/>
</joint>

<link name="l_foot_heel"/>
<joint name="l_foot_heel_joint" type="fixed">
  <origin xyz="-0.08151 -0.140 -0.08284" rpy="0 0 0"/>
  <parent link="LINK_L_FOOT"/>
  <child link="l_foot_heel"/>
</joint>

  <joint name="JOINT_LR_DPIN1" type="fixed">
    <origin xyz="-0.141 -0.014 0.2299" rpy="-1.92536 0 0" />
    <parent link="LINK_L_FOOT" />
    <child link="LINK_LR_DPIN" />
    <axis xyz="-1 0 0" />
    <limit effort="0.0" lower="-3.14159265359" upper="3.14159265359" velocity="0.0"/>
  </joint>
  <joint name="JOINT_LR_DPIN2" type="fixed">
    <origin xyz="0 0 0" rpy="0 0 0" />
    <parent link="LINK_LR_DPIN" />
    <child link="LINK_LR_SCREW" />
    <axis xyz="0 1 0" />
    <limit effort="0.0" lower="-3.14159265359" upper="3.14159265359" velocity="0.0"/>
  </joint>
  <joint name="JOINT_LL_DPIN1" type="fixed">
    <origin xyz="-0.036 -0.014 0.2301" rpy="-1.92601 0 0" />
    <parent link="LINK_L_FOOT" />
    <child link="LINK_LL_DPIN" />
    <axis xyz="1 0 0" />
    <limit effort="0.0" lower="-3.14159265359" upper="3.14159265359" velocity="0.0"/>
  </joint>
  <joint name="JOINT_LL_DPIN2" type="fixed">
    <origin xyz="0 0 0" rpy="0 0 0" />
    <parent link="LINK_LL_DPIN" />
    <child link="LINK_LL_SCREW" />
    <axis xyz="0 1 0" />
    <limit effort="0.0" lower="-3.14159265359" upper="3.14159265359" velocity="0.0"/>
  </joint>
  <joint name="JOINT_LR_UPIN1" type="fixed">
    <origin xyz="-0.203 -0.14659 0.10362" rpy="1.21623 0 0" />
    <parent link="LINK_L_SHANK" />
    <child link="LINK_LR_UPIN" />
    <axis xyz="1 0 0" />
    <limit effort="0.0" lower="-3.14159265359" upper="3.14159265359" velocity="0.0"/>
  </joint>
  <joint name="JOINT_LR_UPIN2" type="fixed">
    <origin xyz="0 0 0" rpy="0 0 0" />
    <parent link="LINK_LR_UPIN" />
    <child link="LINK_LR_ACTU" />
    <axis xyz="0 -1 0" />
    <limit effort="0.0" lower="-3.14159265359" upper="3.14159265359" velocity="0.0"/>
  </joint>
  <joint name="JOINT_LL_UPIN1" type="fixed">
    <origin xyz="-0.086 -0.14659 0.10362" rpy="1.21558 0 0" />
    <parent link="LINK_L_SHANK" />
    <child link="LINK_LL_UPIN" />
    <axis xyz="1 0 0" />
    <limit effort="0.0" lower="-3.14159265359" upper="3.14159265359" velocity="0.0"/>
  </joint>
  <joint name="JOINT_LL_UPIN2" type="fixed">
    <origin xyz="0 0 0" rpy="0 0 0" />
    <parent link="LINK_LL_UPIN" />
    <child link="LINK_LL_ACTU" />
    <axis xyz="0 -1 0" />
    <limit effort="0.0" lower="-3.14159265359" upper="3.14159265359" velocity="0.0"/>
  </joint>
  <joint name="JOINT_L_ABD_ACTUSUB" type="fixed">
    <origin xyz="-0.089 0.109 0.057" rpy="0 0 0" />
    <parent link="LINK_L_BASE" />
    <child link="LINK_L_ABD_ACTU" />
    <axis xyz="1 0 0" />
    <limit effort="0.0" lower="-3.14159265359" upper="3.14159265359" velocity="0.0"/>
  </joint>
  <joint name="JOINT_R_ABD_SCREWSUB" type="fixed">
    <origin xyz="-0.027 -0.173 0.106" rpy="0 0 0" />
    <parent link="base_link" />
    <child link="LINK_R_ABD_SCREW" />
    <axis xyz="-1 0 0" />
    <limit effort="0.0" lower="-3.14159265359" upper="3.14159265359" velocity="0.0"/>
  </joint>
  <joint name="JOINT_L_ABD_SCREWSUB" type="fixed">
    <origin xyz="-0.027 0.173 0.106" rpy="0 0 0" />
    <parent link="base_link" />
    <child link="LINK_L_ABD_SCREW" />
    <axis xyz="-1 0 0" />
    <limit effort="0.0" lower="-3.14159265359" upper="3.14159265359" velocity="0.0"/>
  </joint>
</robot>
